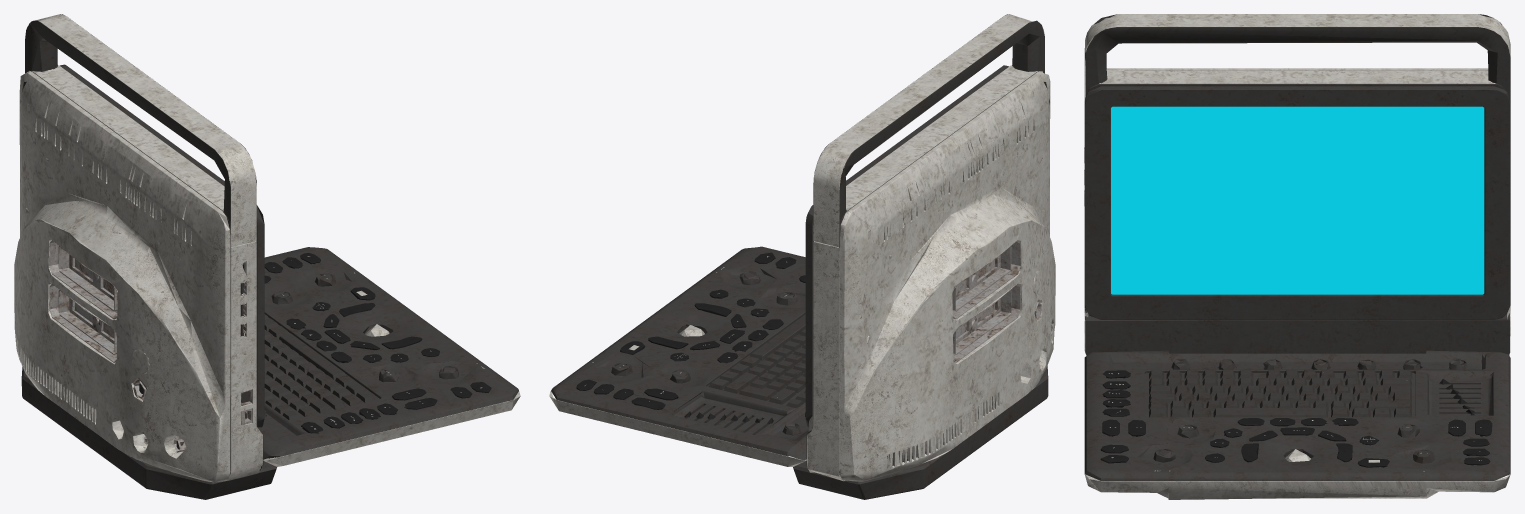
Rendered from craft_r09_echo_psalter.glb.
The picture shows the model from 3 angles, left to right: view 1: azimuth 30°, elevation 25°; view 2: azimuth 150°, elevation 25°; view 3: azimuth 270°, elevation 25°; orthographic projection. The views are drawn at different scales.
Visible parts, largest first — view 1: craft_r09_echo_psalter; view 2: craft_r09_echo_psalter; view 3: craft_r09_echo_psalter.
Part boxes in pixels (x1,y1,x2,y2): craft_r09_echo_psalter: (14, 14, 520, 499); craft_r09_echo_psalter: (549, 14, 1055, 499); craft_r09_echo_psalter: (1084, 14, 1510, 499).
Size of the model in its own units: 0.3643 by 0.3516 by 0.3783.
Materials: 6 (5 with a texture image).
